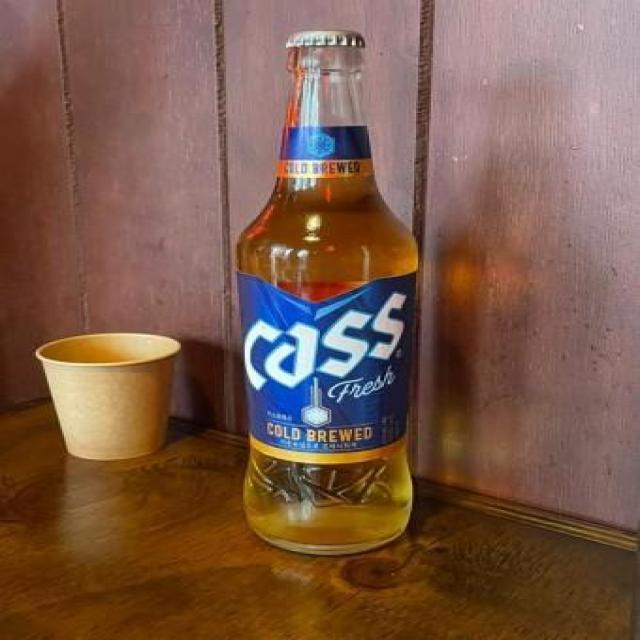beer-bottle: (238, 5, 421, 583)
